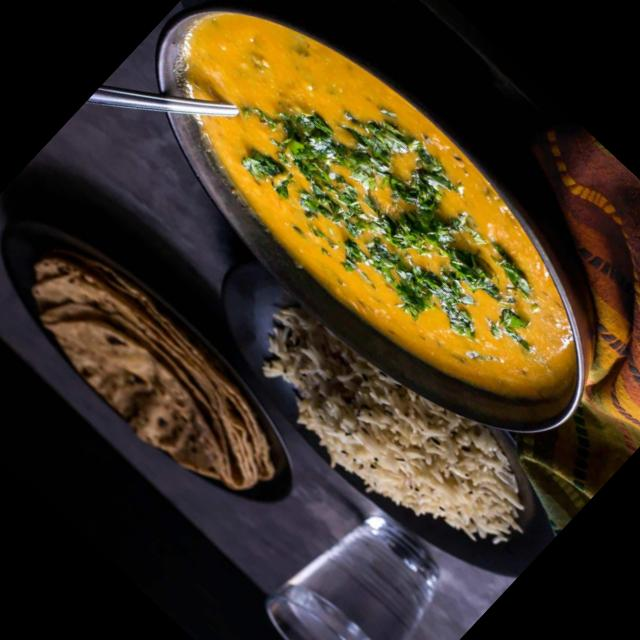dal: (139, 0, 627, 445)
rice: (206, 256, 552, 590)
roti: (0, 218, 311, 529)
